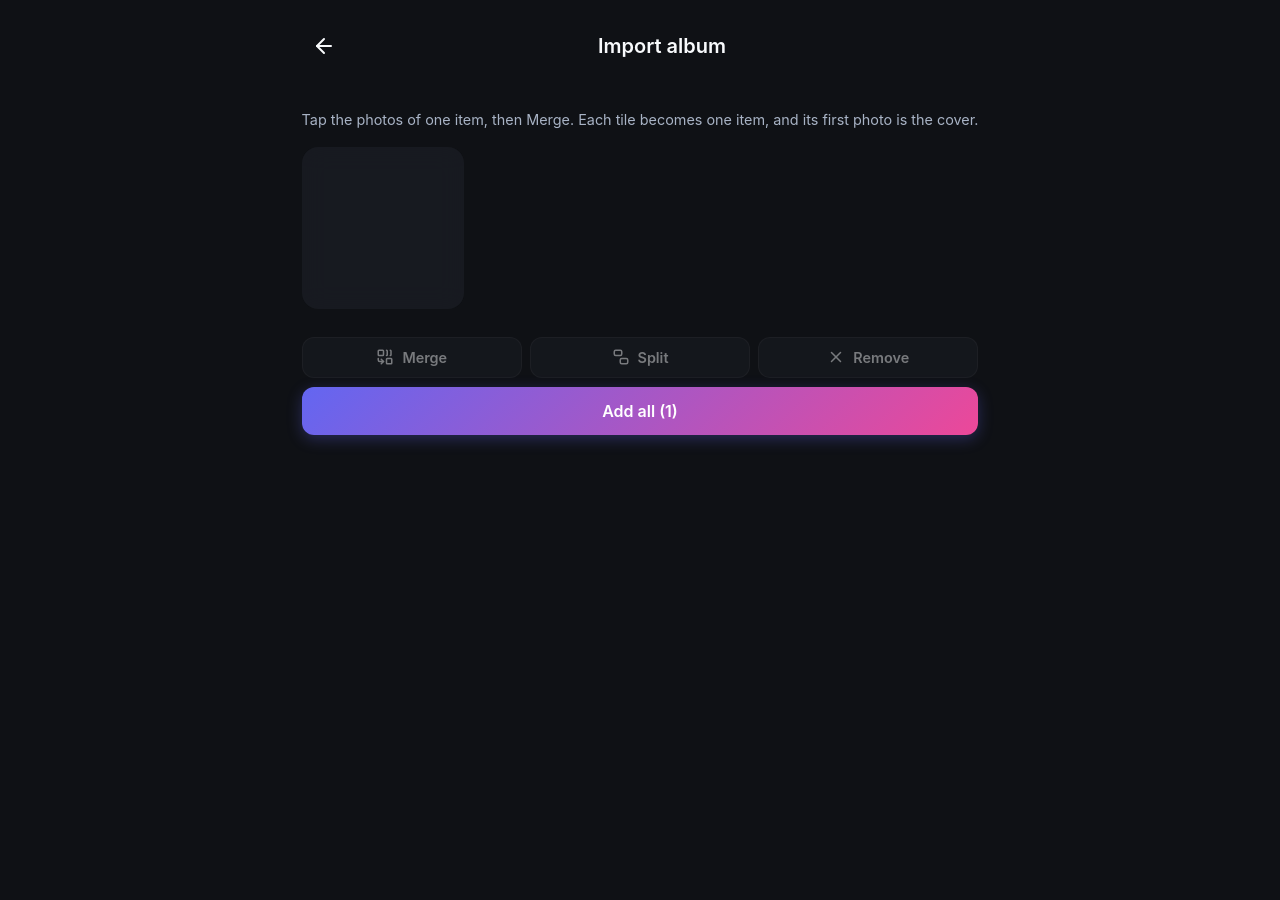
Test: AlbumImport › keeps the photos for another try when saving fails
Click the button "Add all (1)" at (640, 411), box [302,387,978,435]
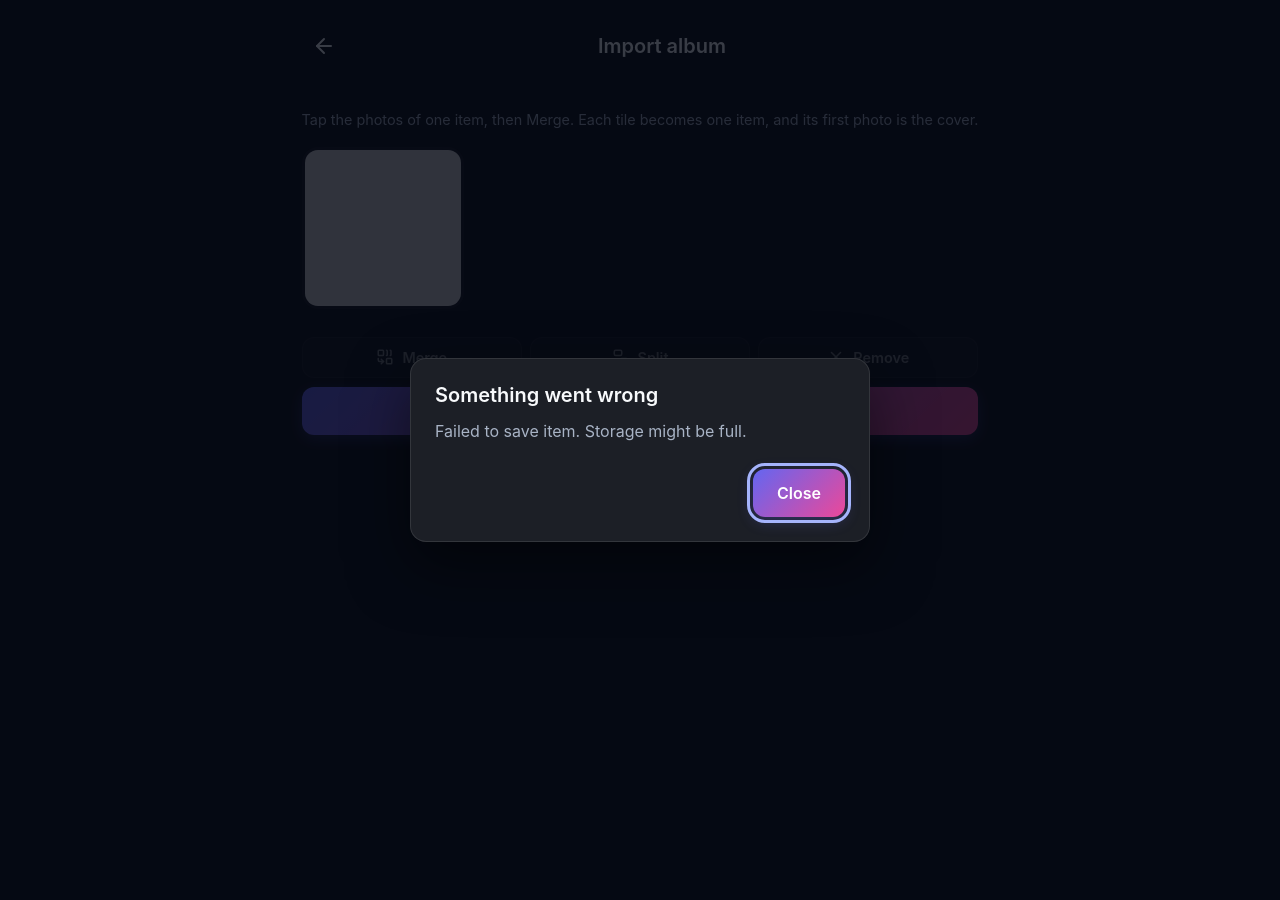
Expected: the dialog "Something went wrong" shows "Failed to save item. Storage might be full.", [435,421,746,441]
